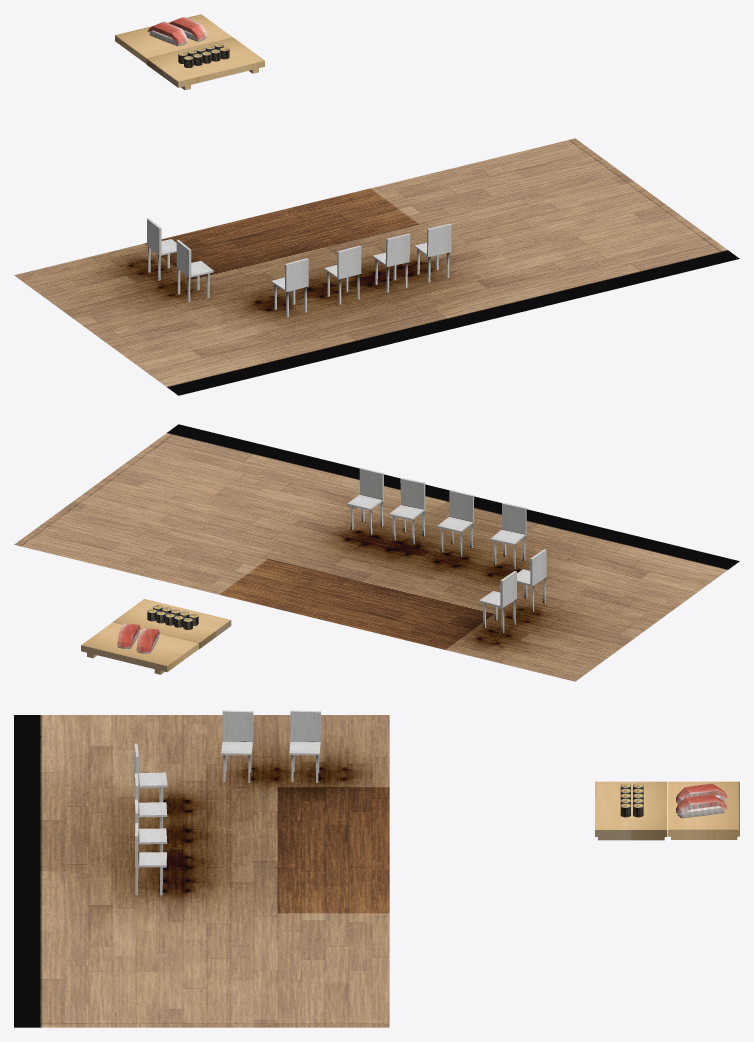
The model's file is sushiyatennai.obj.
3 views of the same model, one above another, from view 1: azimuth 30°, elevation 25°; view 2: azimuth 150°, elevation 25°; view 3: azimuth 270°, elevation 25° (orthographic). The views are drawn at different scales.
Size of the model in its own units: 8.9 by 1.17 by 8.73.
